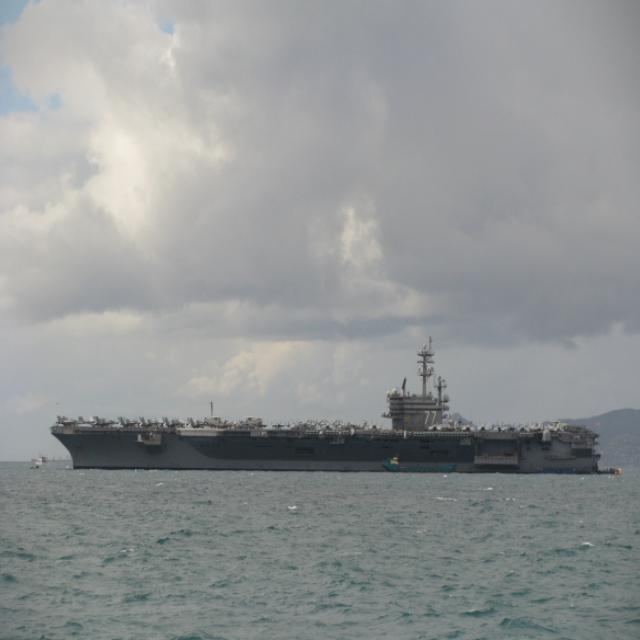Portanaves: (49, 331, 614, 473)
